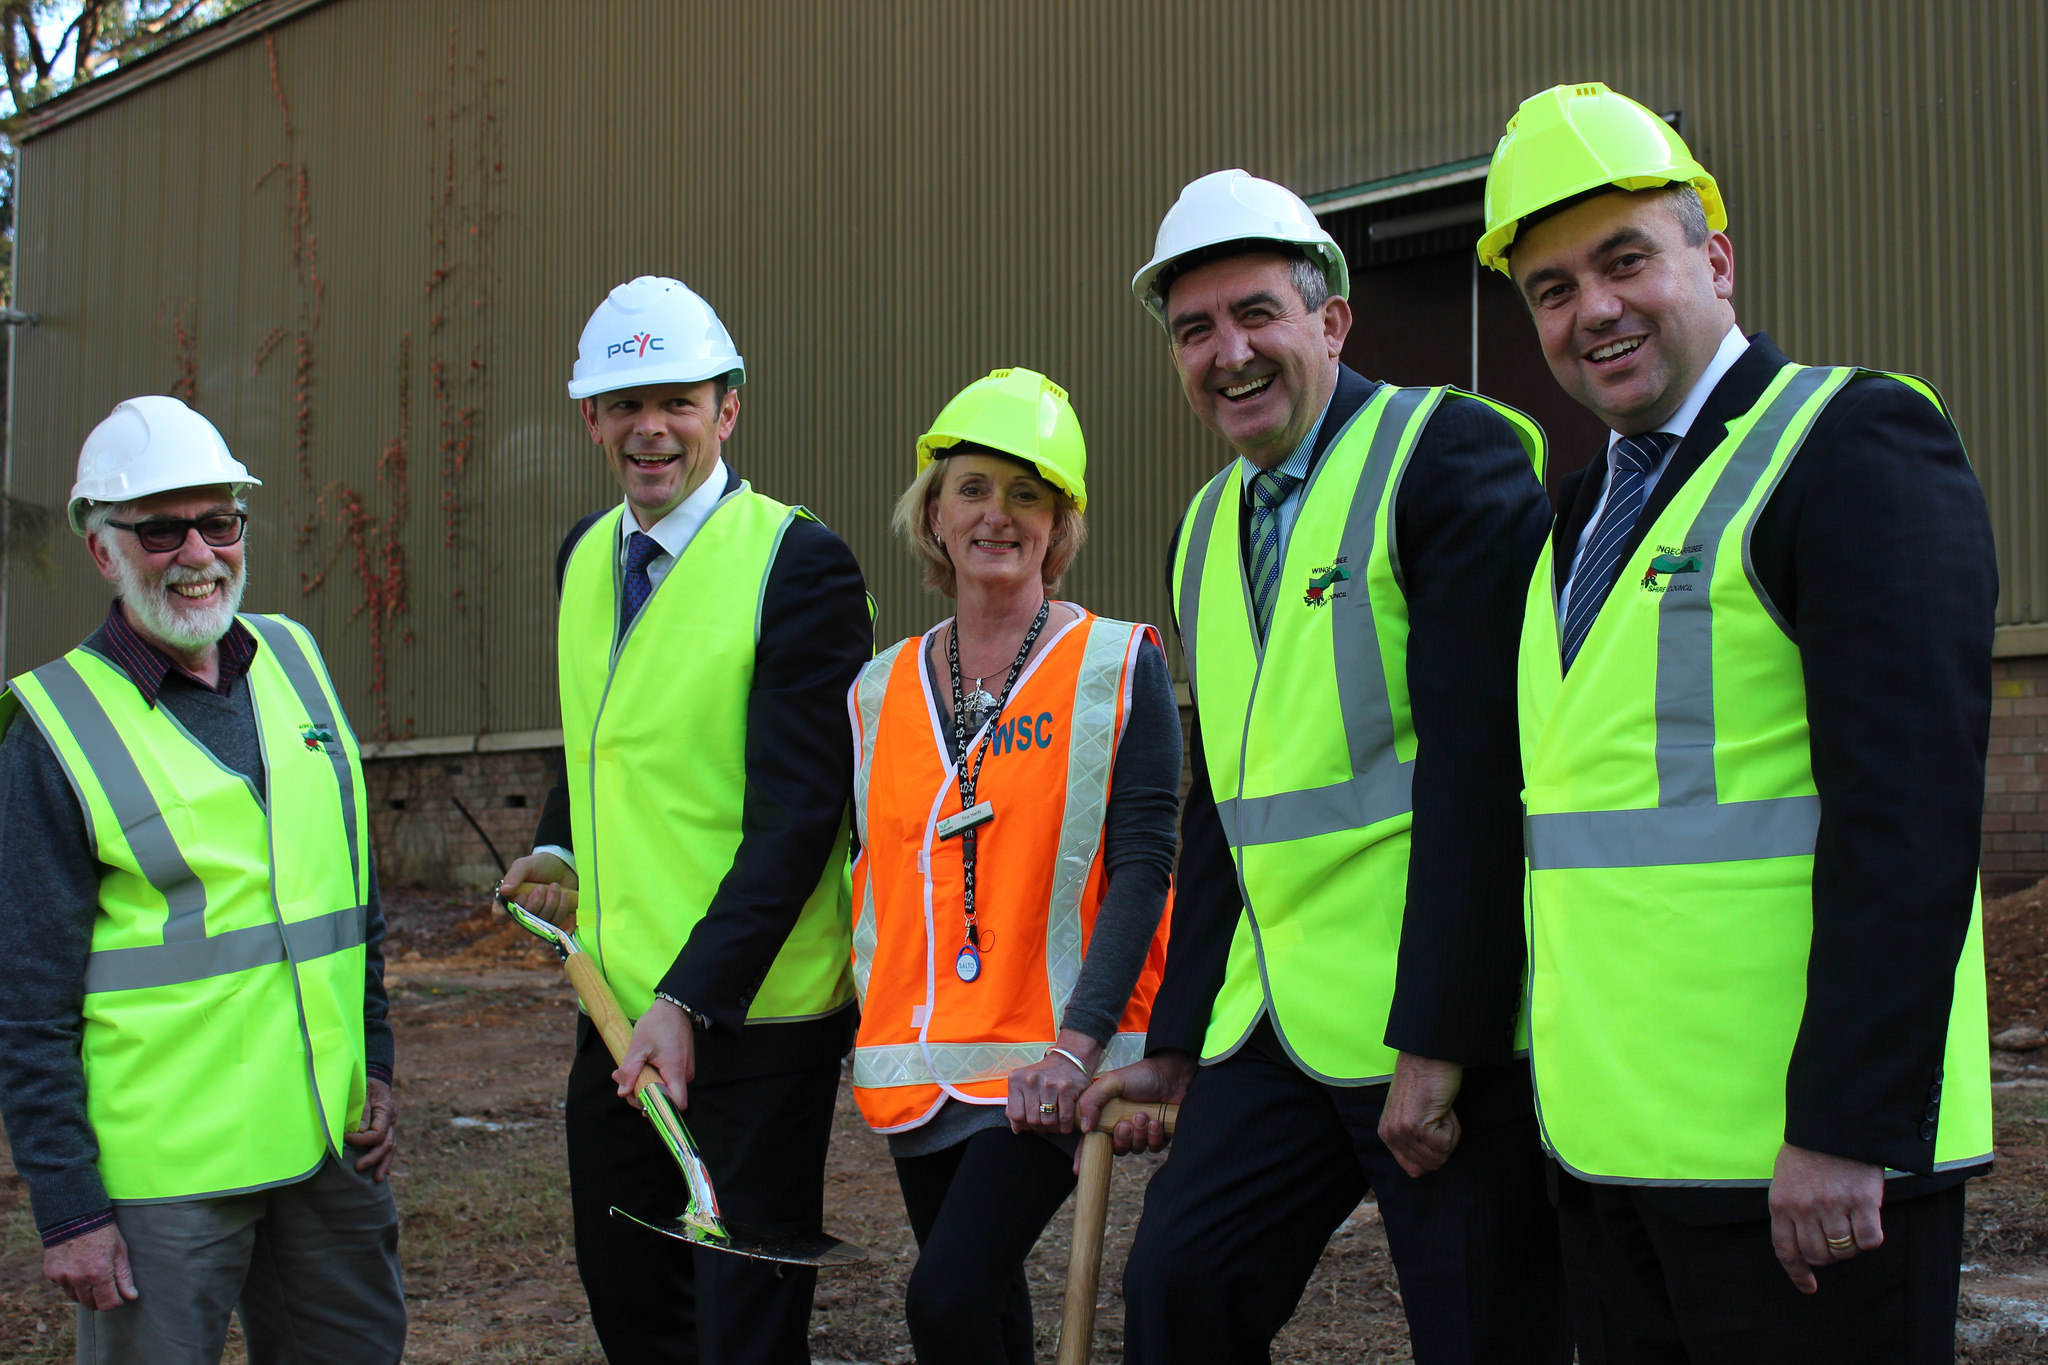Helmet: (1460, 73, 1737, 424), (1116, 155, 1364, 477), (53, 388, 289, 667), (553, 264, 760, 519), (901, 360, 1099, 612)
Reflective vest: (1514, 347, 2001, 1200), (1163, 379, 1555, 1092), (2, 602, 376, 1211), (841, 599, 1179, 1140), (554, 475, 871, 1041)
